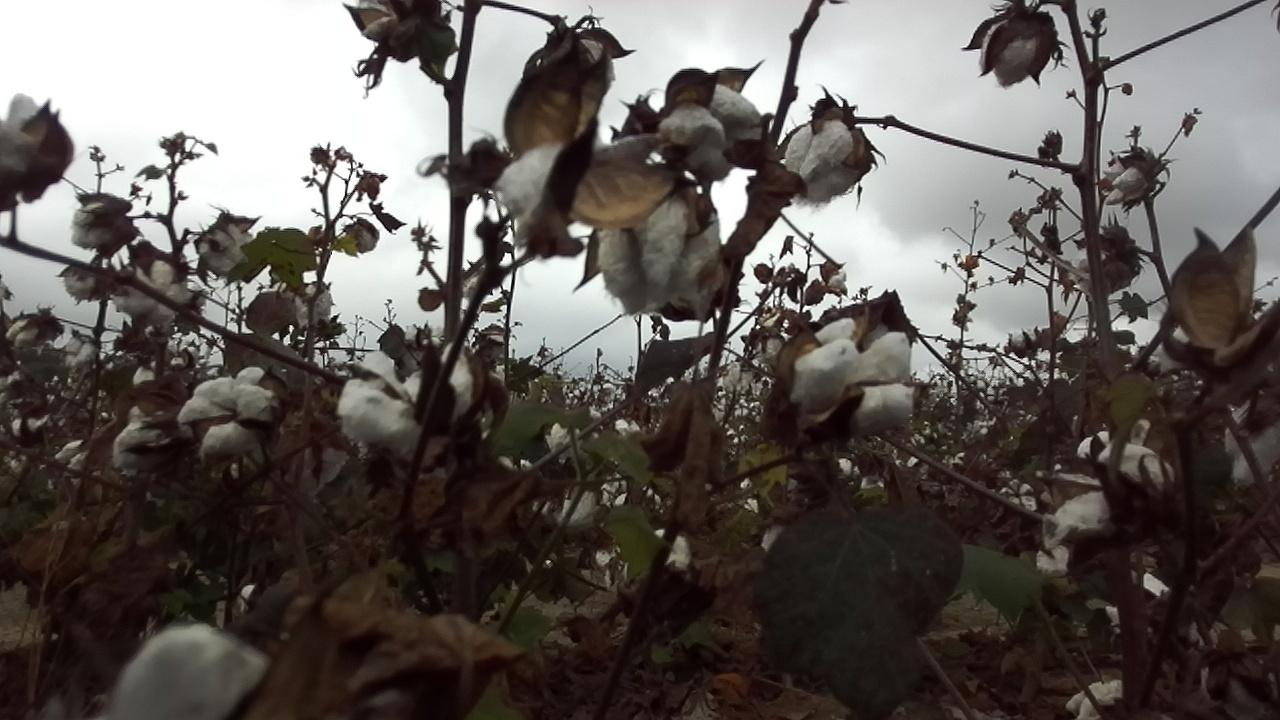cotton_ready: (1034, 430, 1170, 577), (340, 335, 472, 465), (599, 194, 727, 318), (786, 320, 919, 438), (111, 624, 267, 720), (496, 419, 602, 527), (658, 84, 760, 186), (180, 374, 279, 461), (499, 143, 569, 242), (784, 119, 860, 206), (356, 0, 457, 63), (119, 257, 190, 331), (1225, 395, 1280, 489), (605, 529, 689, 587), (1101, 570, 1173, 637), (0, 90, 47, 182), (116, 404, 177, 473), (980, 19, 1042, 86), (198, 223, 257, 282), (71, 197, 117, 250), (1065, 680, 1125, 720), (1108, 157, 1149, 209), (284, 284, 331, 329), (755, 311, 790, 371), (1071, 245, 1112, 294)
